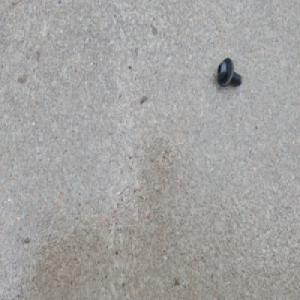BoltWasher: (216, 60, 242, 92)
